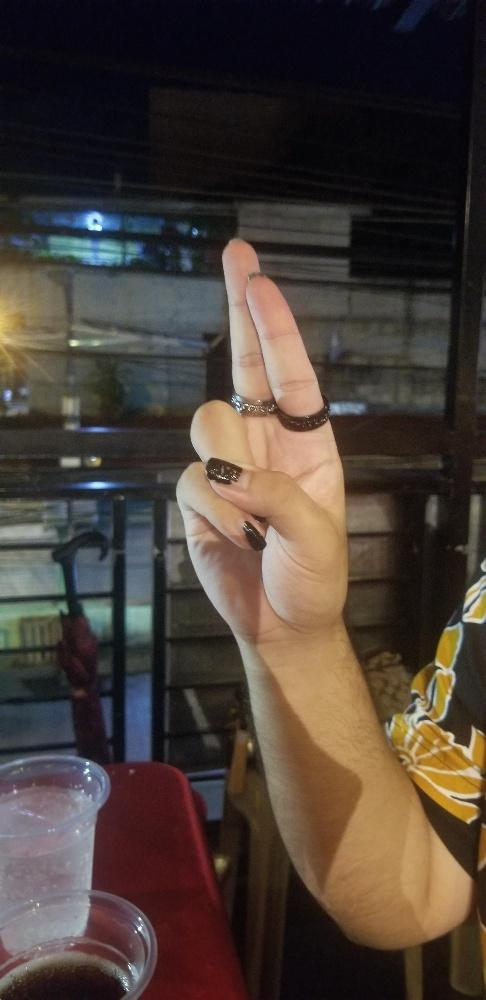r: (173, 230, 344, 651)
